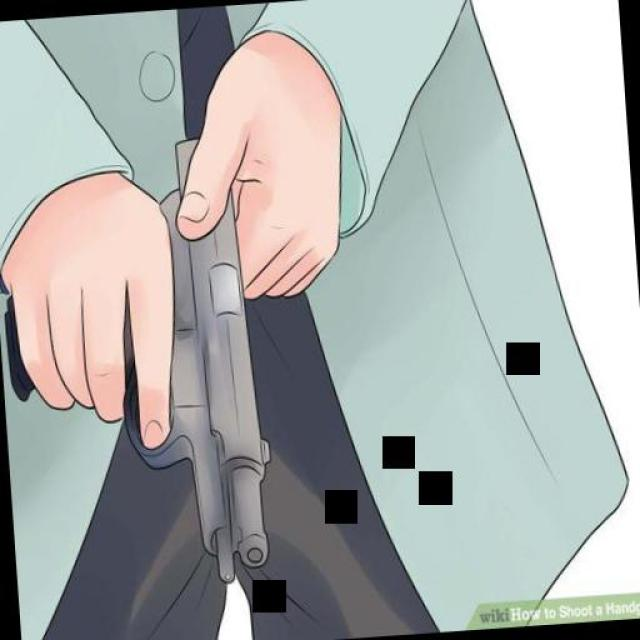gun: (0, 132, 271, 602)
